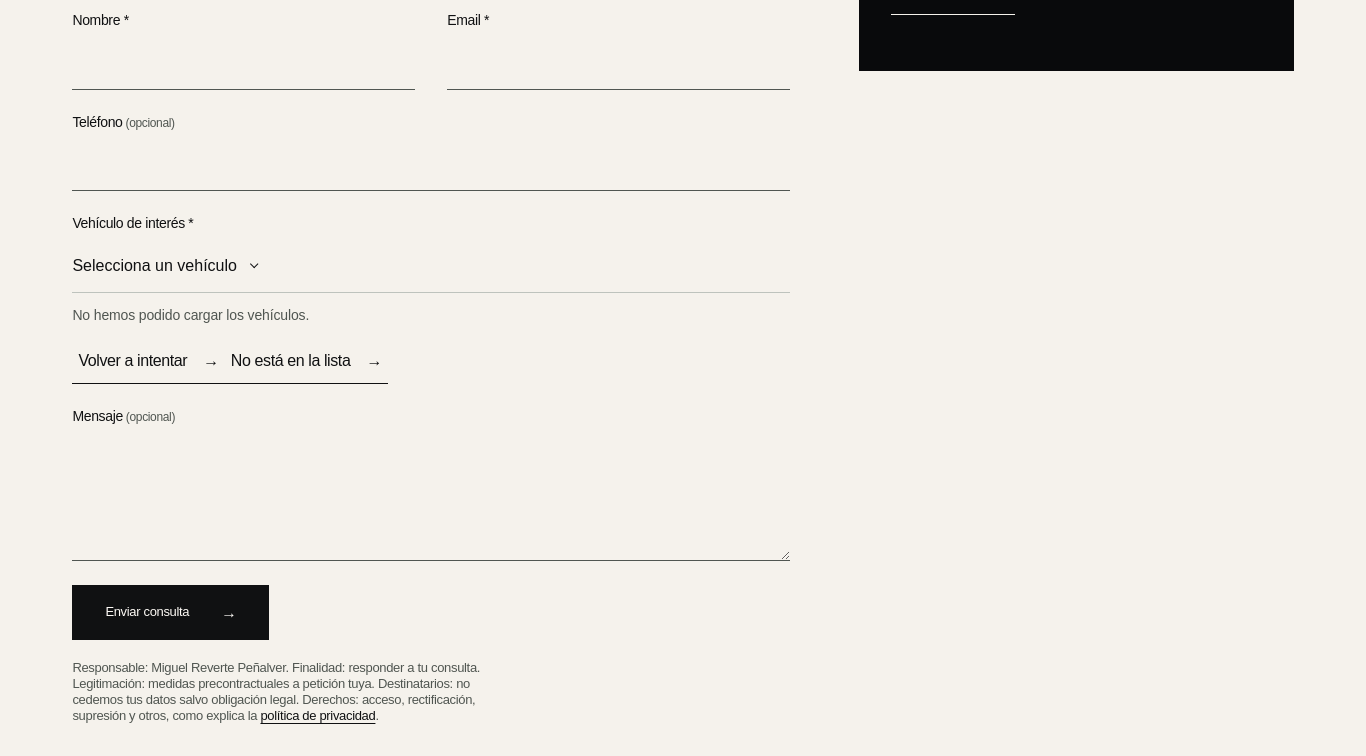
Scenario: contact paths › announces empty stock and retries a failed load
(page scrolled)
Expected: the text "No hemos podido cargar los vehículos." is shown, [72, 307, 309, 323]
Click the button "Volver a intentar →".
click(149, 362)  # box [72, 340, 225, 384]
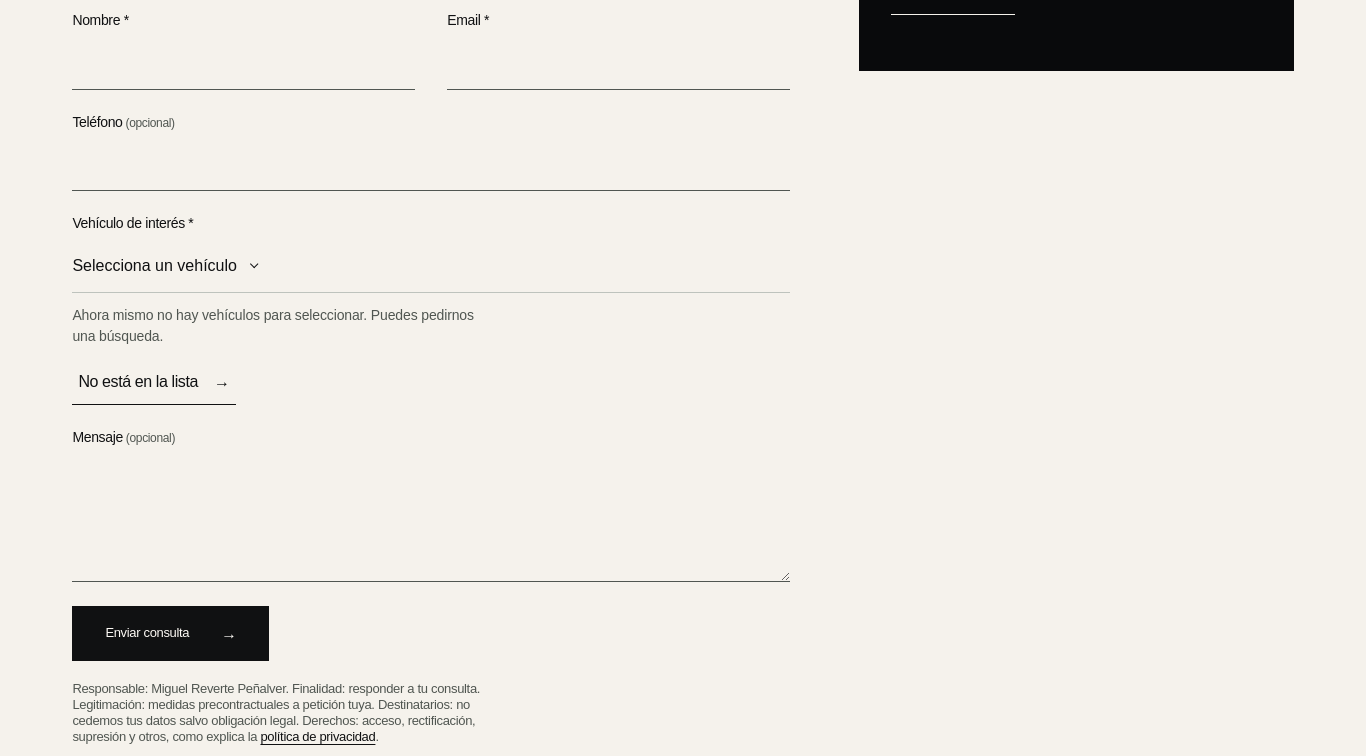
Expected: the dropdown reads "Selecciona un vehículo", [72, 241, 790, 293]
Result: the text "Ahora mismo no hay vehículos para seleccionar. Puedes pedirnos una búsqueda." is shown at [72, 307, 474, 344]
